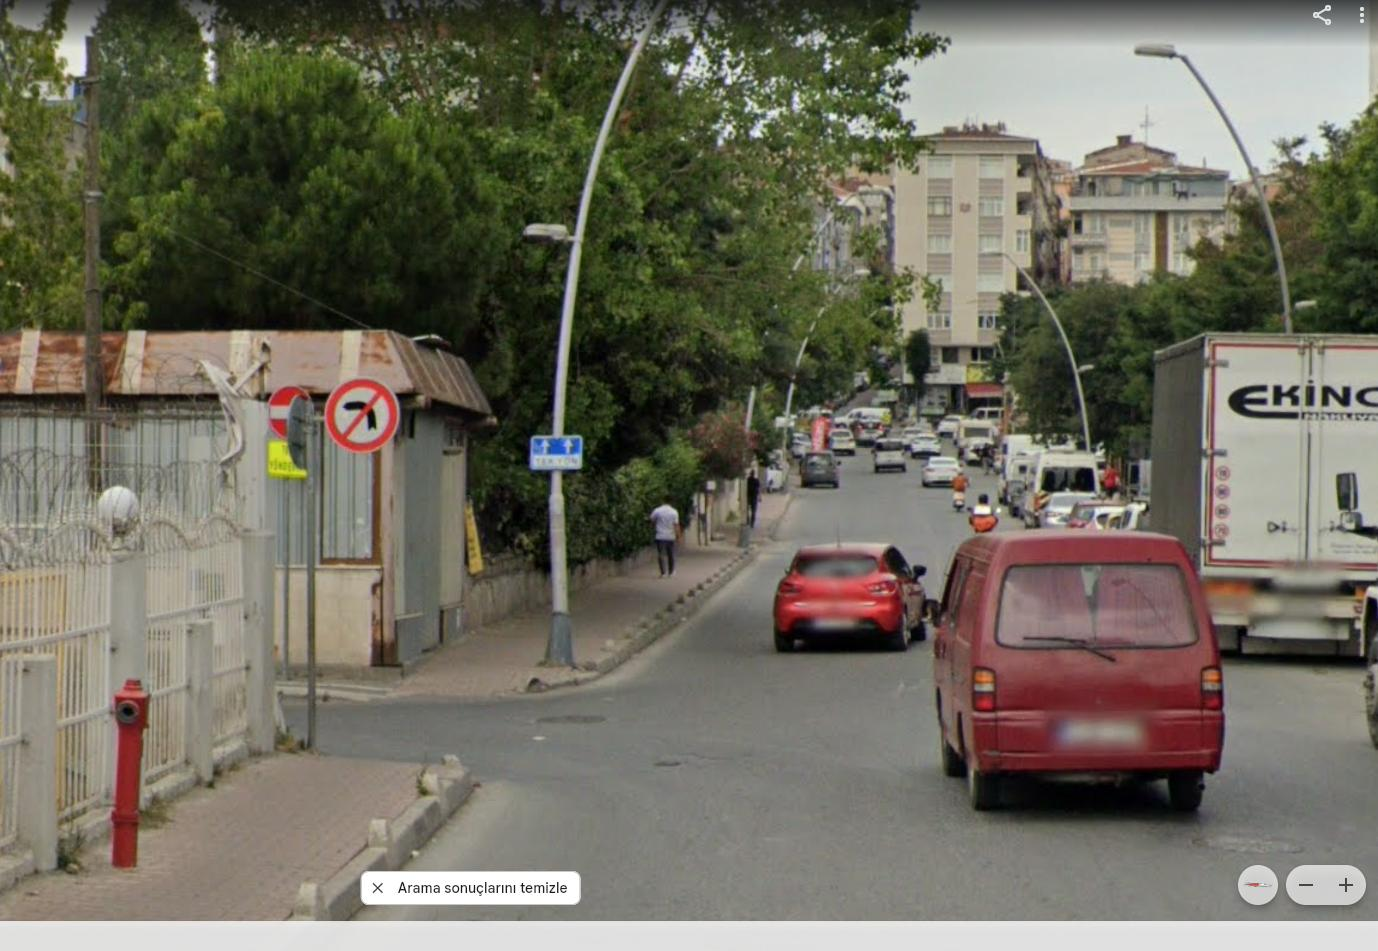leftturnsareforbidden: (328, 379, 395, 445)
